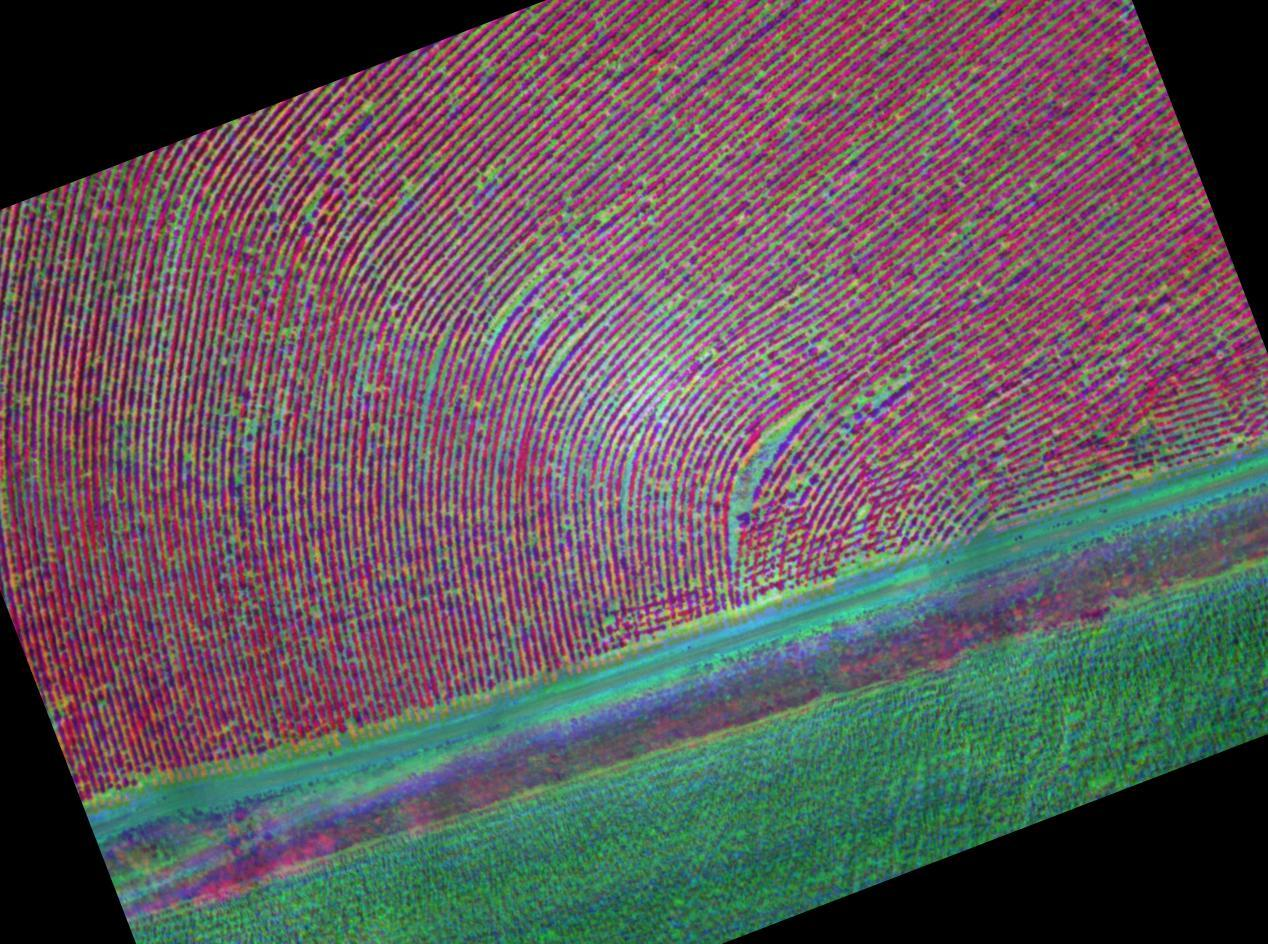dc: (681, 383, 829, 577), (456, 273, 657, 398), (103, 213, 239, 344), (288, 103, 419, 236), (86, 383, 236, 482), (478, 145, 620, 241)
